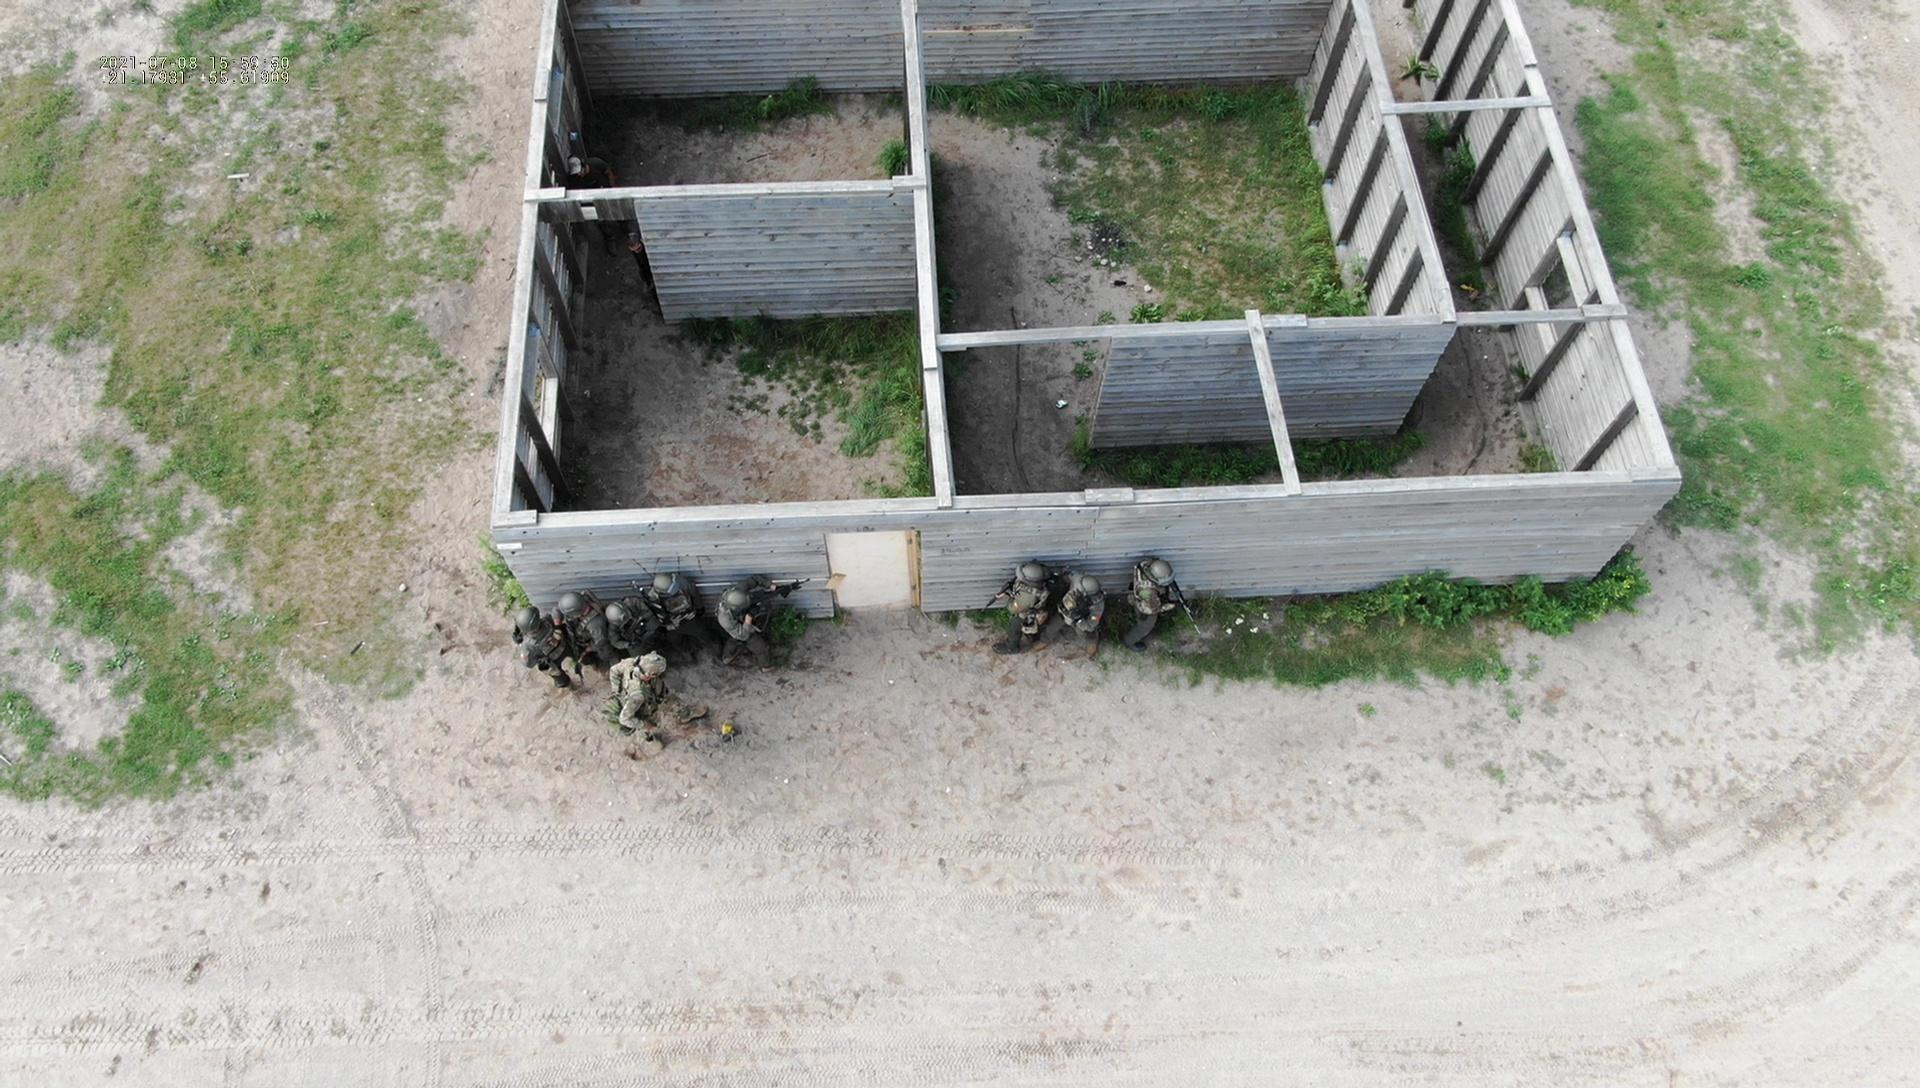Soldier: (617, 655, 728, 775), (1100, 543, 1188, 678), (982, 553, 1065, 659), (727, 583, 808, 677), (520, 584, 583, 686), (651, 572, 723, 645), (1043, 575, 1097, 666), (588, 595, 658, 654), (562, 586, 611, 645)
